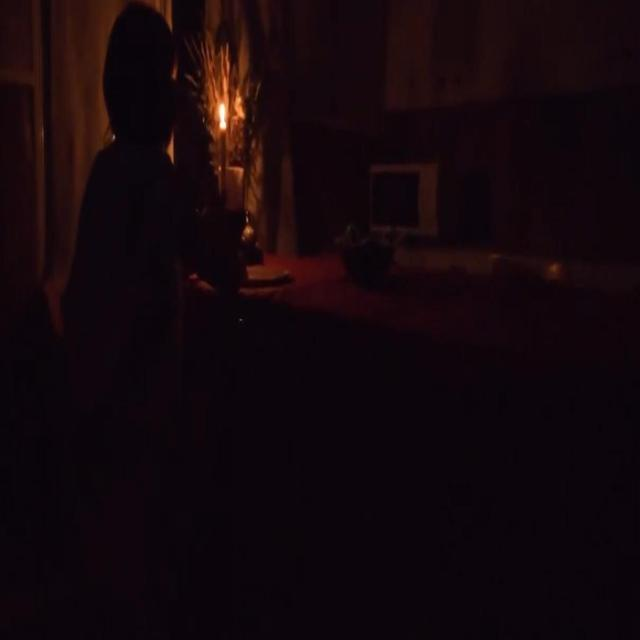smoke: (218, 100, 228, 125)
